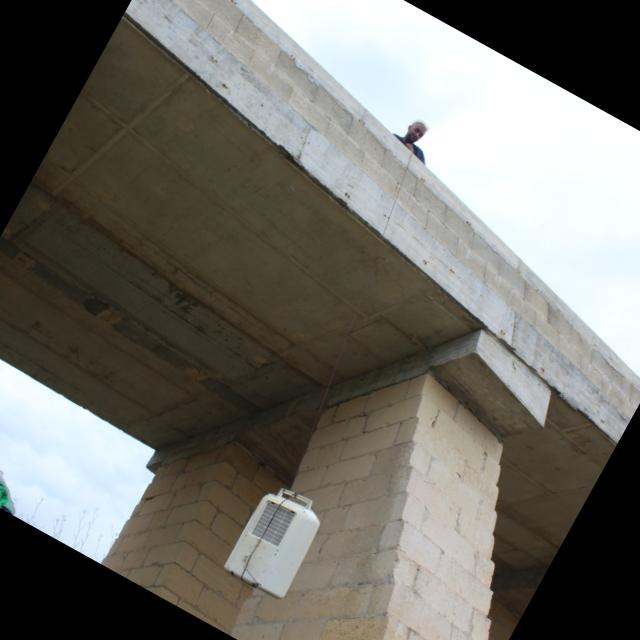Other litter: (222, 487, 324, 603)
